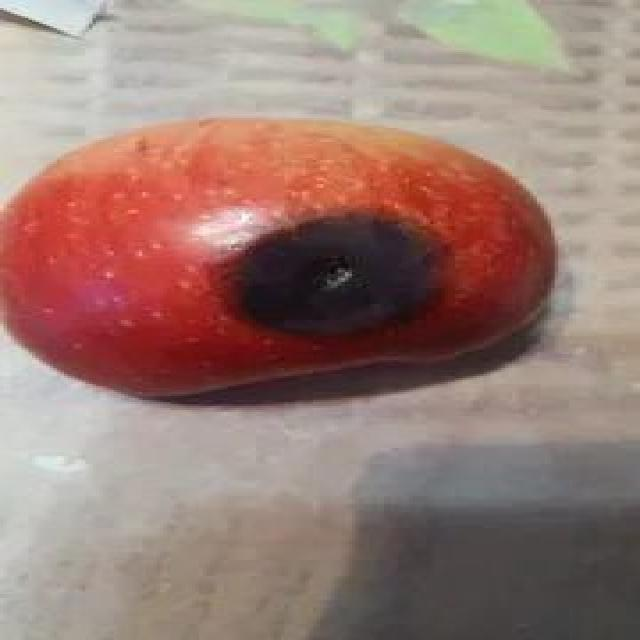Rotten Apple: (0, 121, 551, 399)
